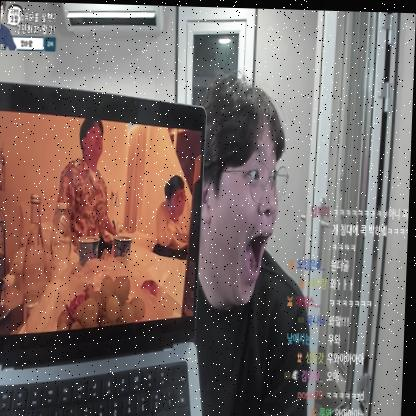streamer: (182, 62, 320, 416)
